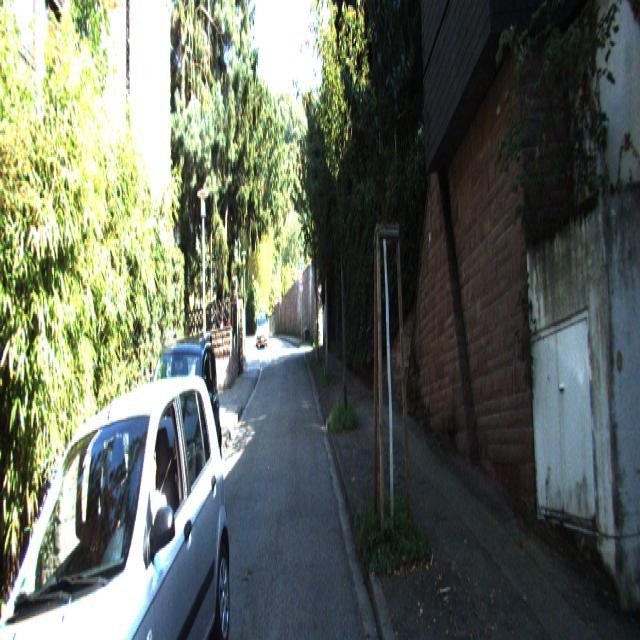Car: (0, 348, 233, 639), (129, 330, 223, 580), (257, 311, 269, 351)
